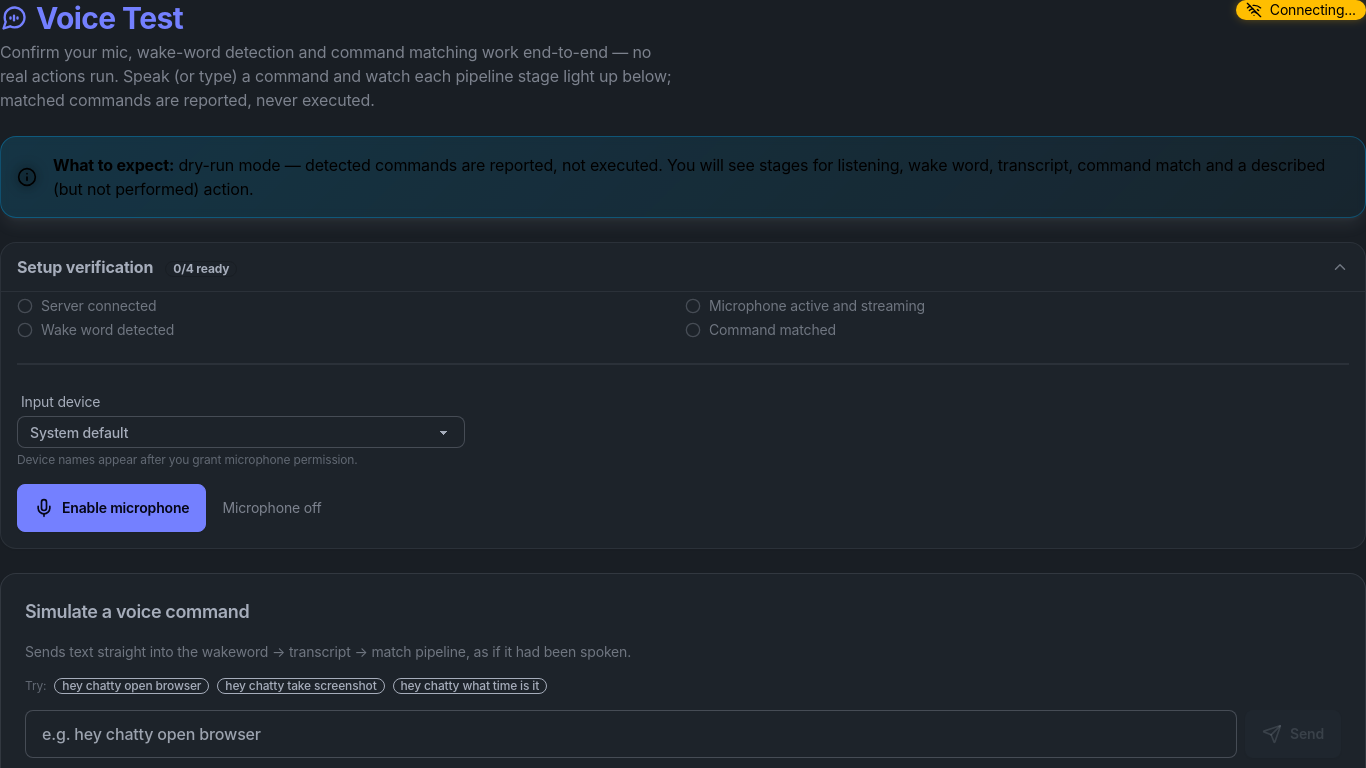
it: VoiceTestPage › microphone permission flow › warns when the mic is on but the socket is down
# Socket never opened.
Click the button with test id "mic-toggle" at (112, 508), box [17,484,206,532]
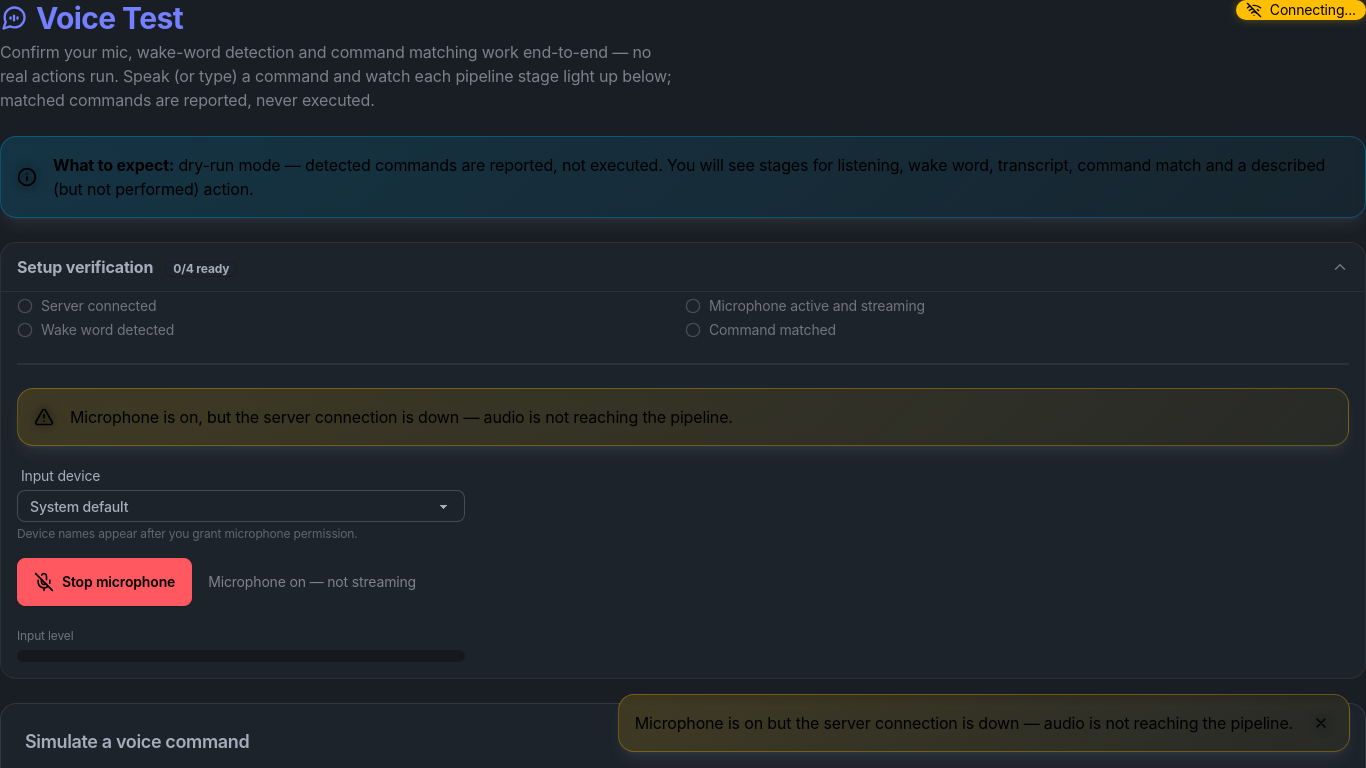
Result: the message with test id "mic-stream-warning" is shown at [17,388,1349,446]
Result: the text with test id "mic-state" reads "Microphone on — not streaming" at [208,573,416,590]
